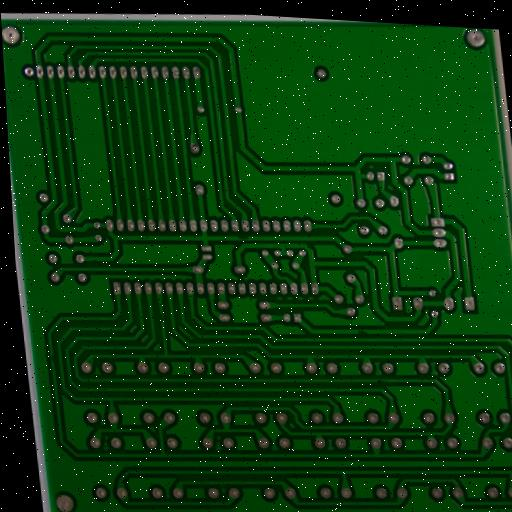mouse_bite: (354, 326, 374, 338), (236, 231, 253, 243), (156, 309, 167, 326), (48, 351, 59, 367), (374, 376, 388, 387)
